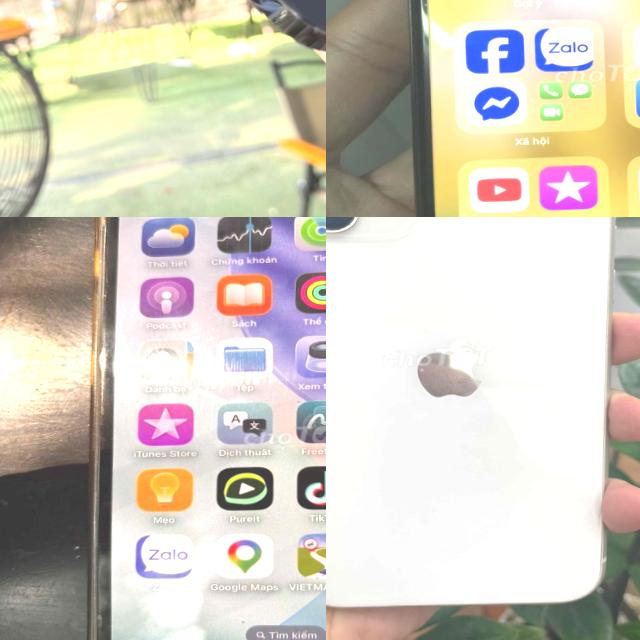gen_11: (326, 217, 613, 607)
gen_12_13: (53, 217, 326, 640)
gen_x_xs: (364, 0, 640, 217)
